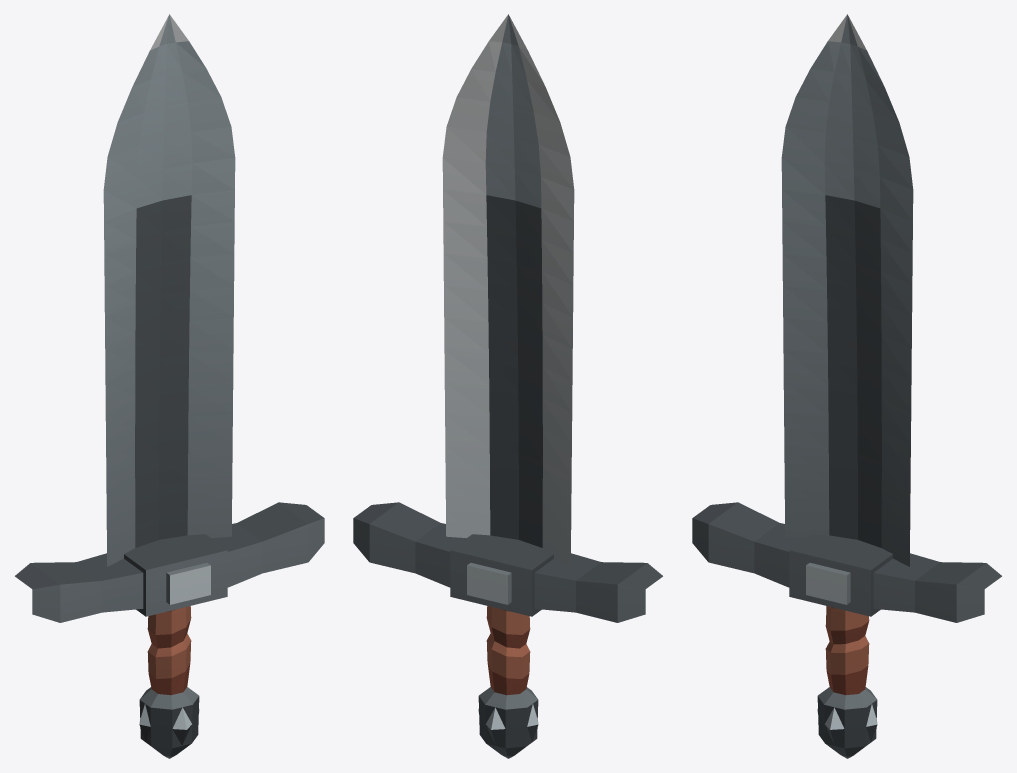
File: broadsword_iron.glb
The picture shows the model from 3 angles, left to right: view 1: azimuth 30°, elevation 25°; view 2: azimuth 150°, elevation 25°; view 3: azimuth 330°, elevation 25°; orthographic projection.
Parts seen in each view (by area): view 1: model; view 2: model; view 3: model.
Part boxes in pixels (<box>): model: <box>15,14,324,758</box>; model: <box>353,14,662,758</box>; model: <box>692,14,1001,758</box>.
Size of the model in its own units: 0.96 by 2.34 by 0.24.
1 material, 1 textured.
